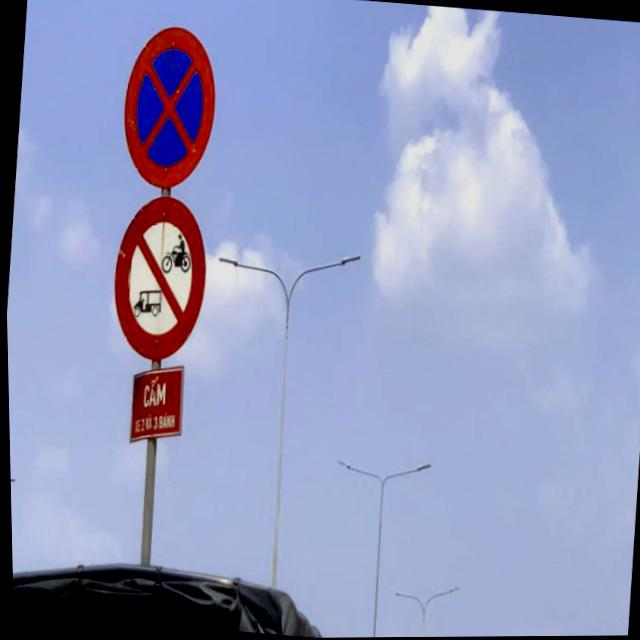Cam dung xe va do xe: (111, 16, 225, 196)
